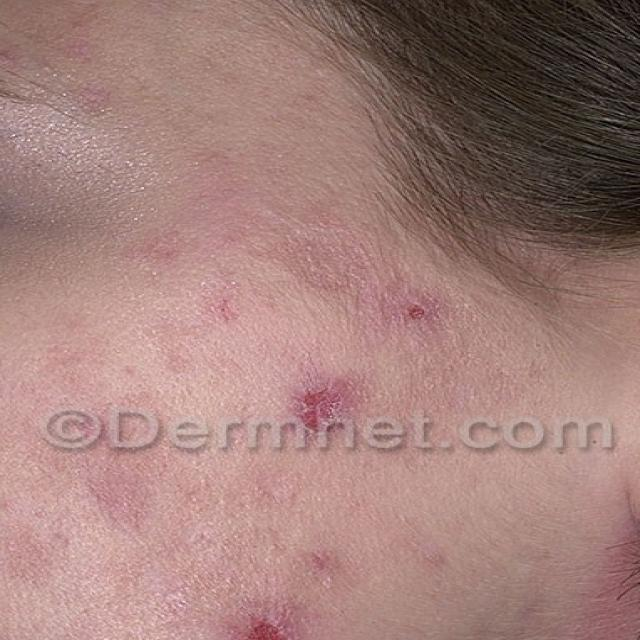Acne: (253, 201, 474, 343), (197, 567, 360, 640), (262, 374, 401, 458), (267, 527, 399, 585)
